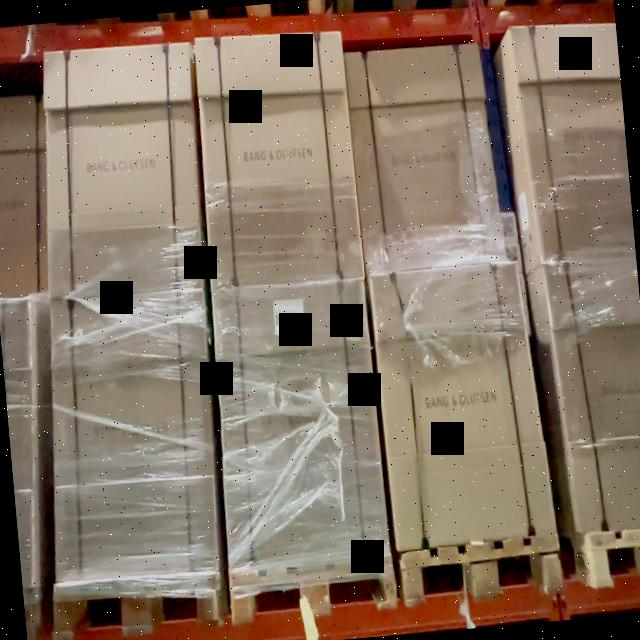box: (31, 285, 226, 580), (372, 269, 556, 545), (208, 280, 386, 564), (195, 28, 362, 288), (32, 44, 204, 296), (346, 43, 494, 269), (514, 23, 634, 250)
